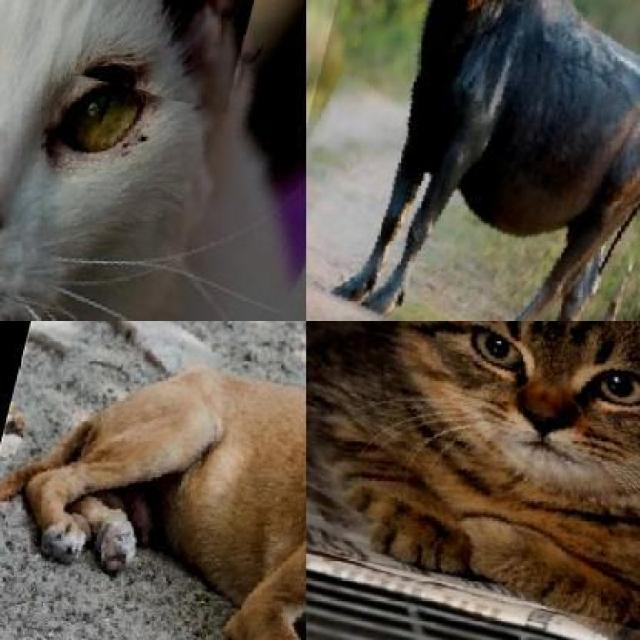buffalo: (306, 0, 640, 320)
cat: (306, 320, 640, 640), (0, 0, 306, 320)
dog: (0, 320, 306, 640)
injured: (72, 0, 264, 112)
